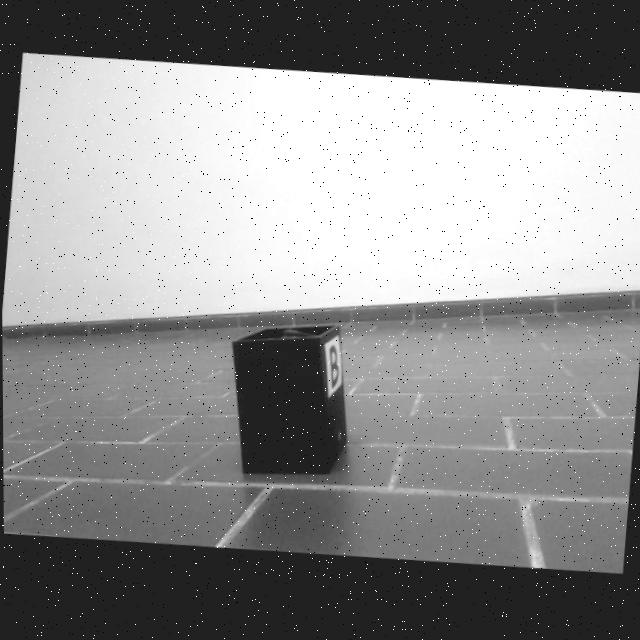B: (327, 347, 338, 390)
